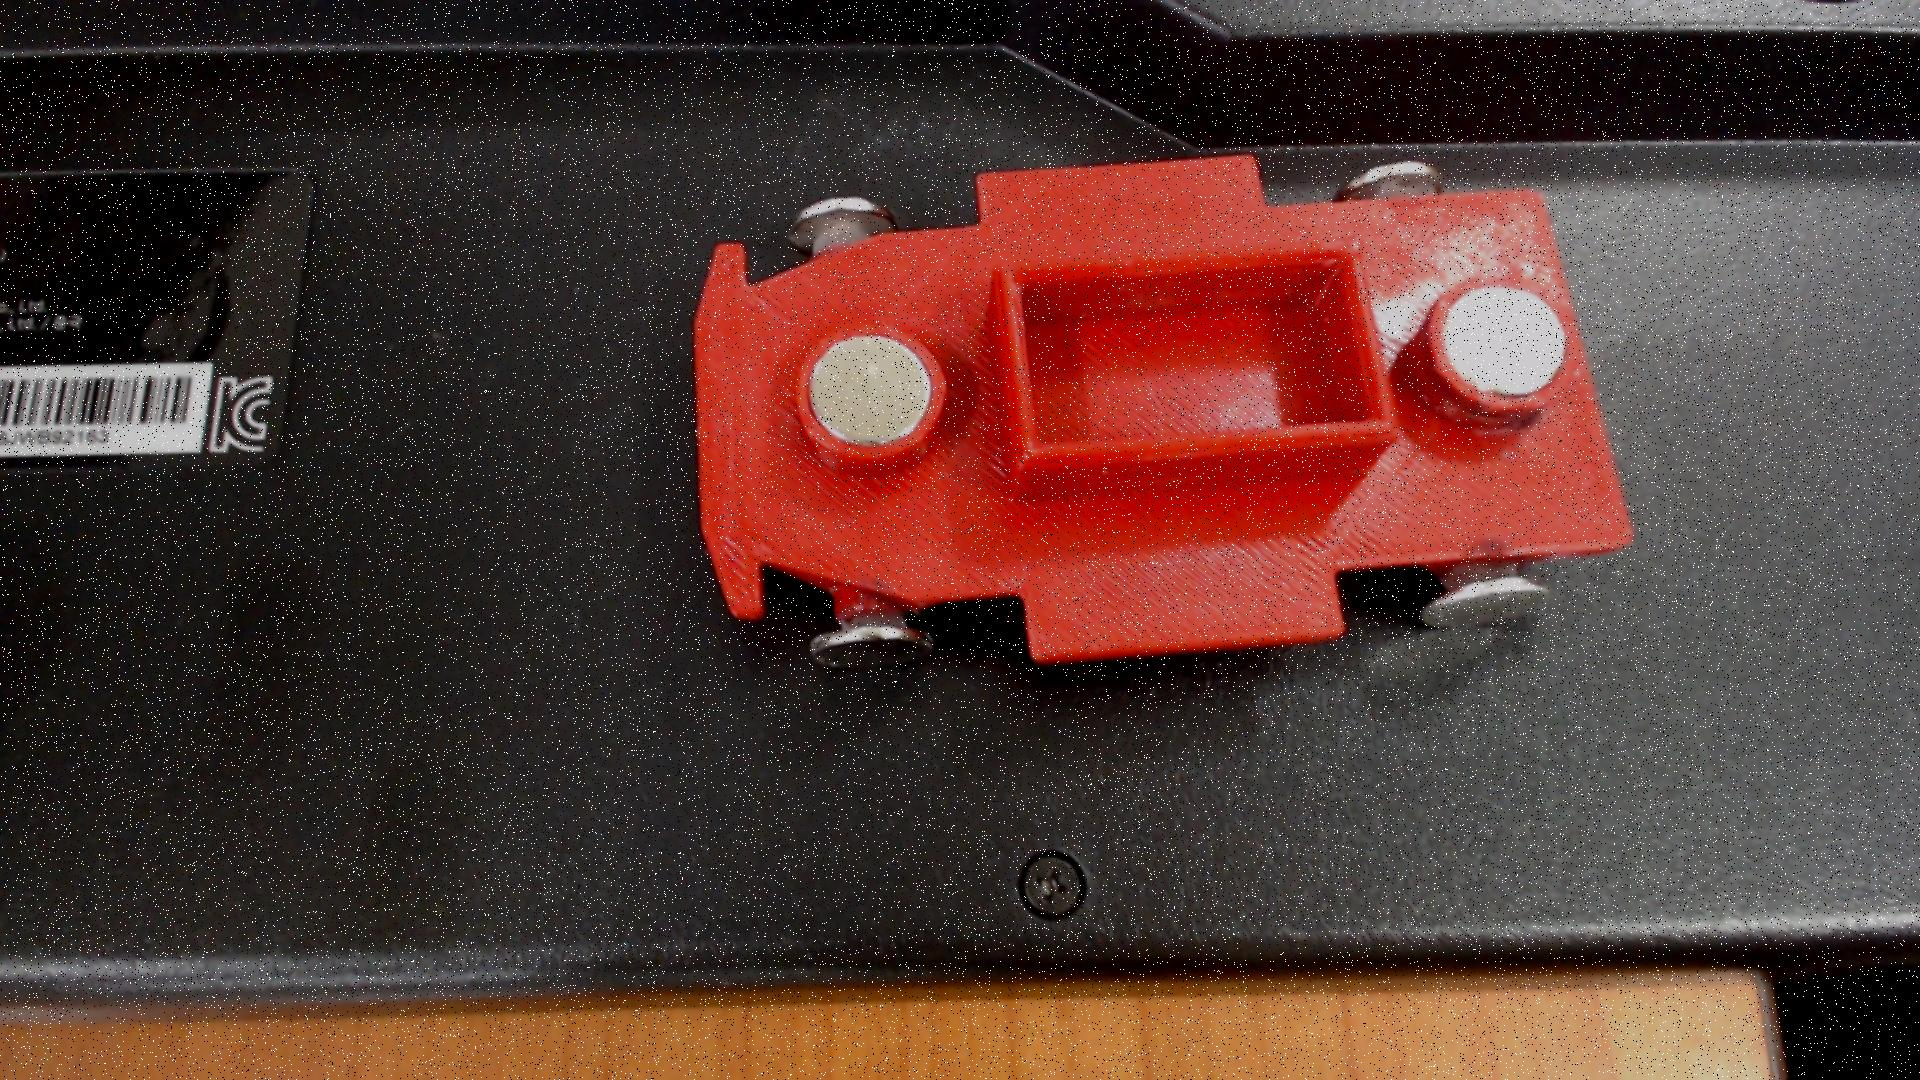lower_ok: (972, 233, 1418, 522)
